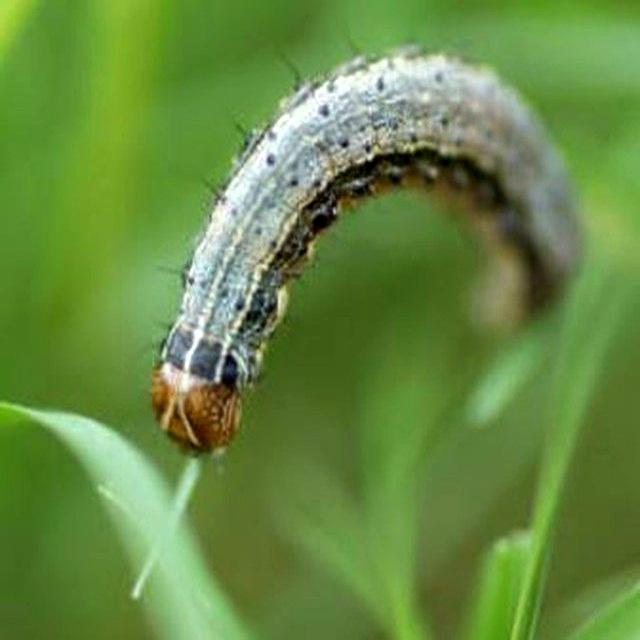Plaga: (149, 39, 594, 460)
